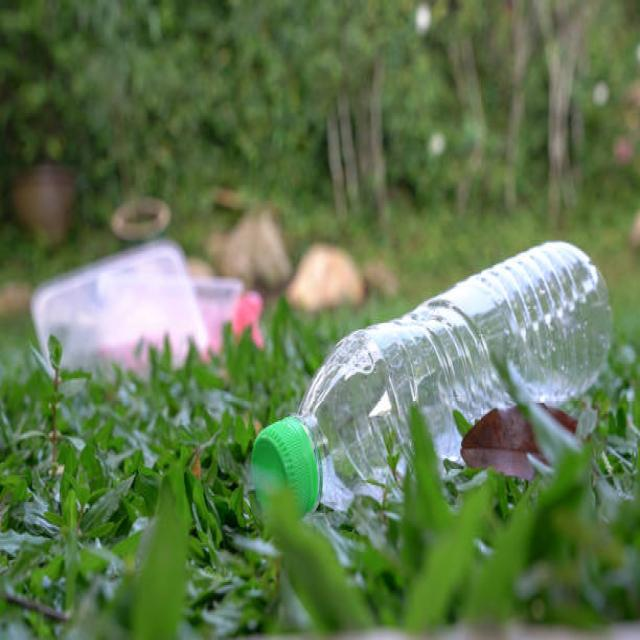plastic: (254, 243, 611, 509)
